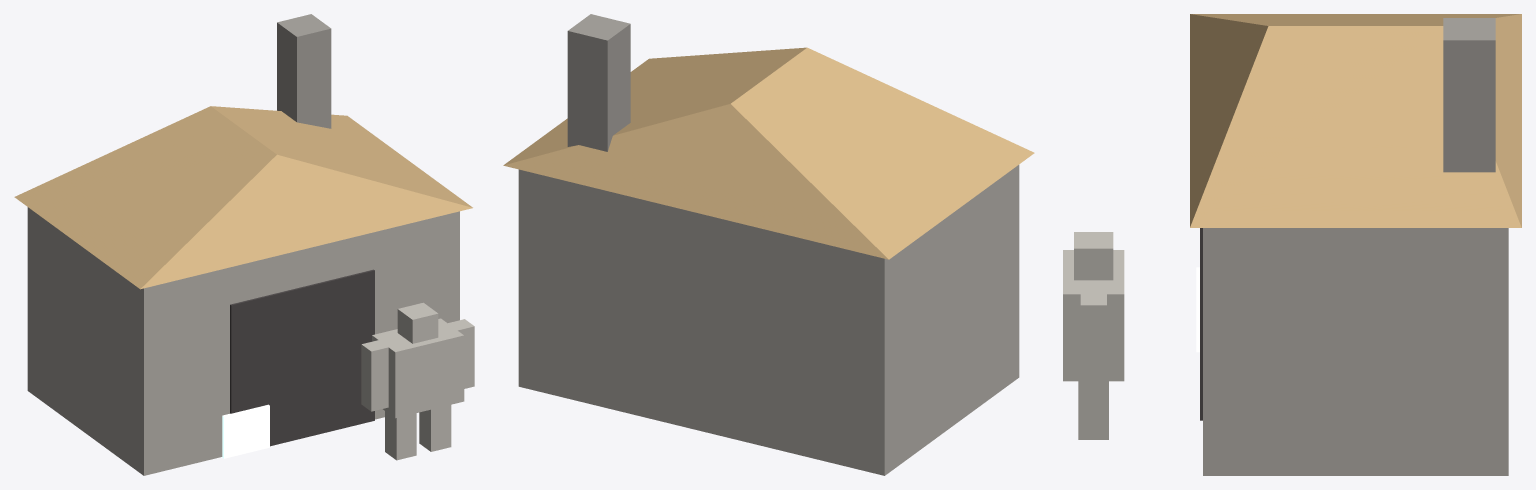
3 renders of one model, left to right at view 1: azimuth 30°, elevation 25°; view 2: azimuth 150°, elevation 25°; view 3: azimuth 270°, elevation 25°, orthographic. The views are drawn at different scales.
Parts seen in each view (by area): view 1: body; view 2: body; view 3: body.
Part boxes in pixels (x1,y1,x2,y2): body: (14, 14, 474, 475); body: (503, 14, 1034, 475); body: (1063, 14, 1521, 475).
Bounding box in the file's own units: 11.6 × 10.4 × 10.5.
